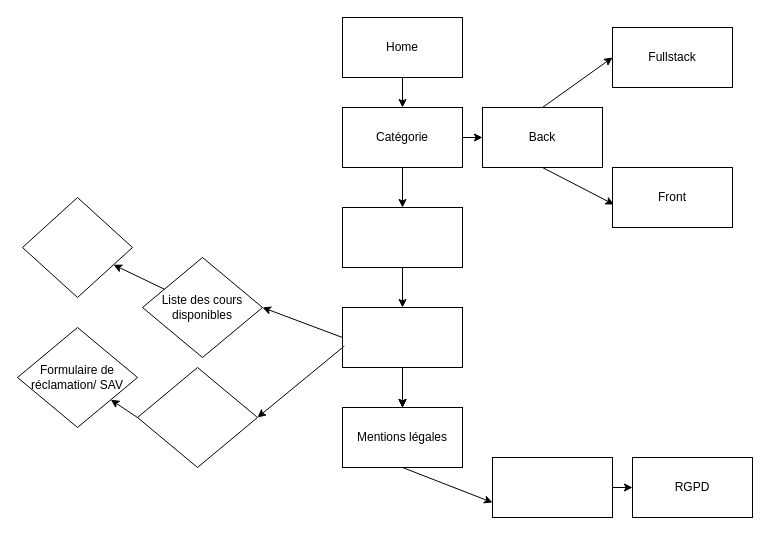
Some shapes in this 770 by 535 pixel diagram are drawn without their labels. Here are the shapes that lost their labels. From the top down, the centre of each, then its label:
[77,247]: Connexion
[402,237]: Prestation
[402,337]: Espace Membre
[197,417]: Espace Forum de discussion
[552,487]: CGV
